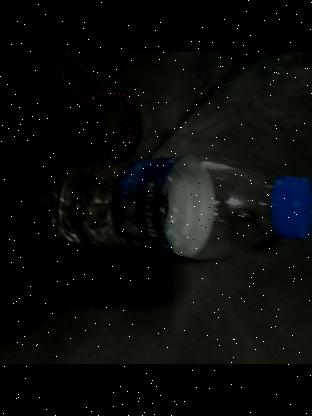Plastic Bottle: (35, 157, 312, 255)
